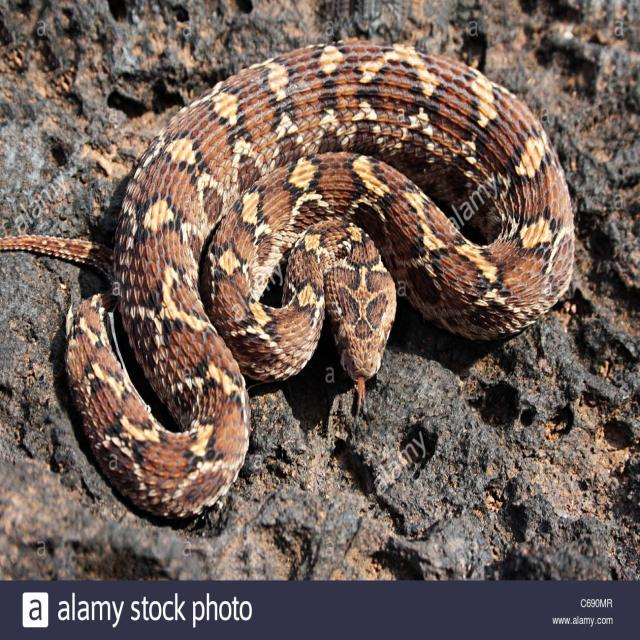Snake: (1, 36, 576, 520)
